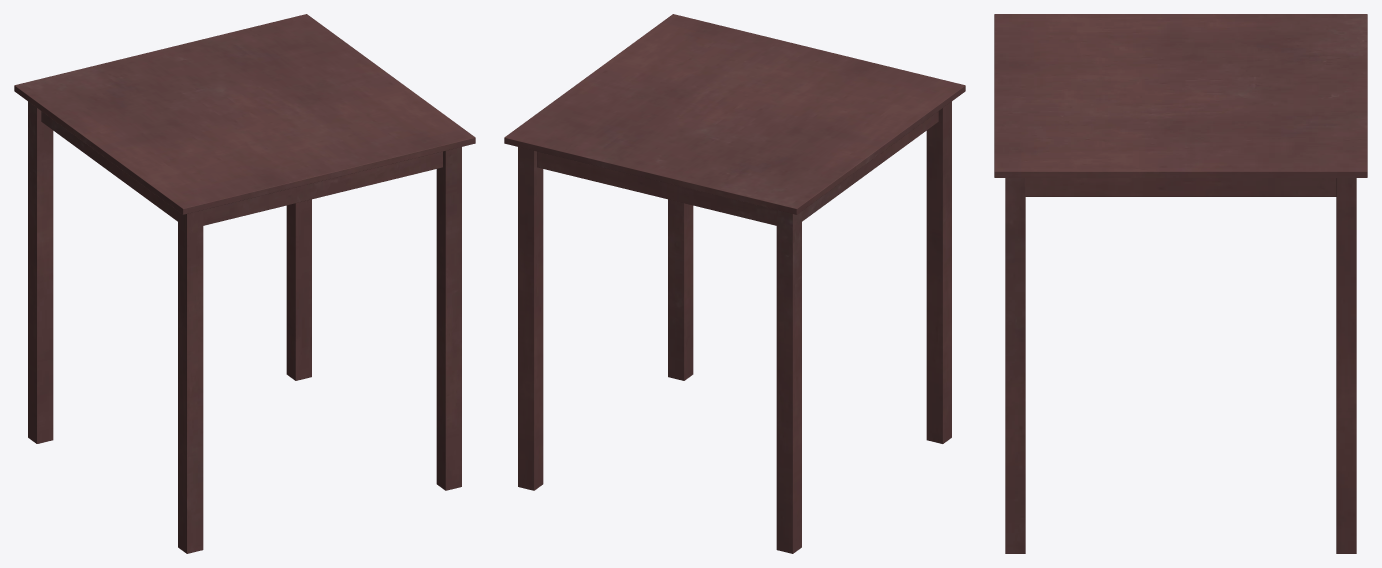
File: abo-B07DMG7VGK.glb
3 renders of one model, left to right at view 1: azimuth 30°, elevation 25°; view 2: azimuth 150°, elevation 25°; view 3: azimuth 270°, elevation 25°, orthographic. The views are drawn at different scales.
Size of the model in its own units: 0.861 by 0.991 by 0.861.
Materials: 1 (1 with a texture image).
